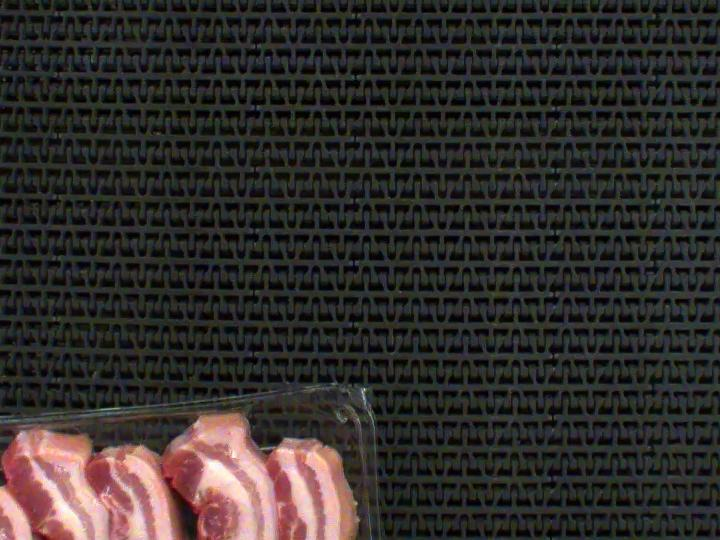packaging-error: (193, 400, 257, 418)
